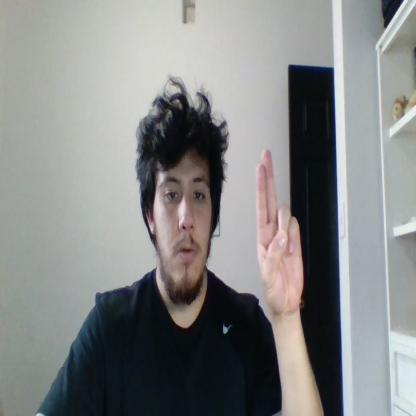U: (255, 148, 303, 312)
